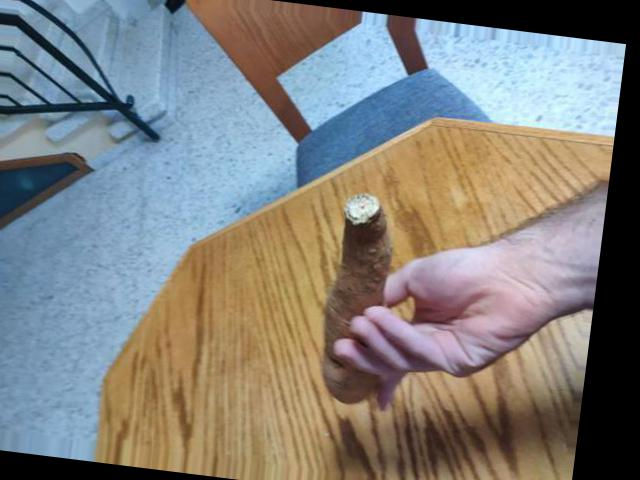sweet_potato: (298, 204, 408, 394)
